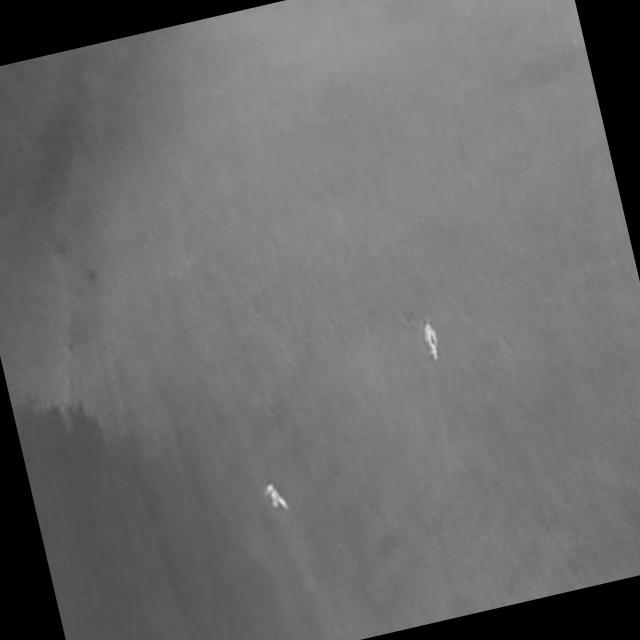person: (263, 480, 290, 515), (421, 321, 443, 363)
